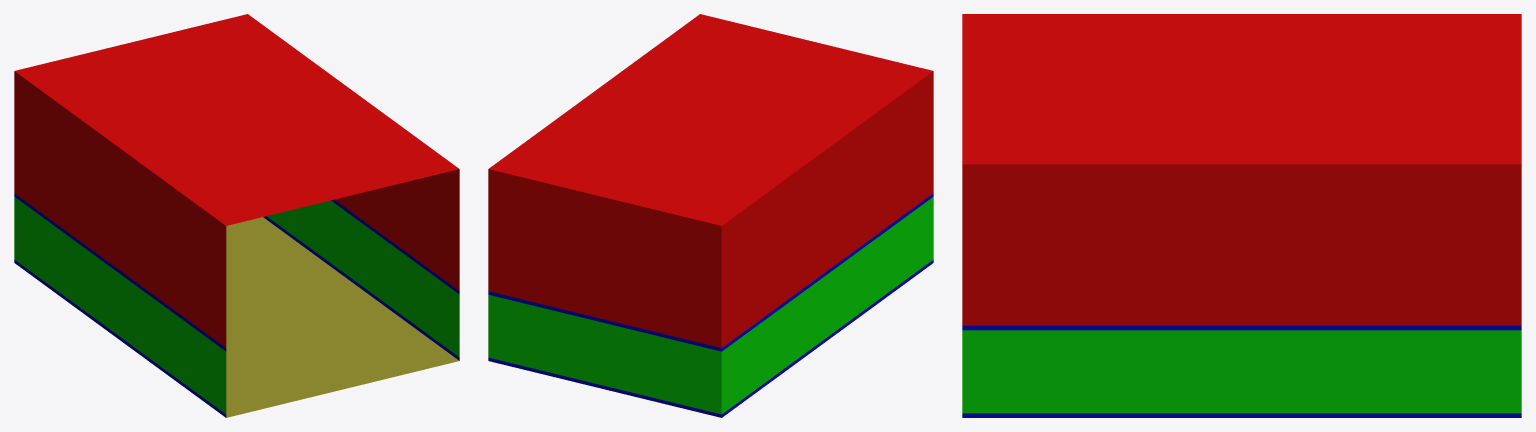
The model's file is SM_Room4x6.fbx.
The picture shows the model from 3 angles, left to right: view 1: azimuth 30°, elevation 25°; view 2: azimuth 150°, elevation 25°; view 3: azimuth 270°, elevation 25°; orthographic projection. The views are drawn at different scales.
Visible parts, largest first — view 1: SM_Room4x6; view 2: SM_Room4x6; view 3: SM_Room4x6.
Boxes of the visible parts, x1,y1,x2,y2 form: SM_Room4x6: (14, 14, 459, 417); SM_Room4x6: (488, 14, 933, 417); SM_Room4x6: (962, 14, 1521, 417).
Bounding box in the file's own units: 350 × 275 × 550.
